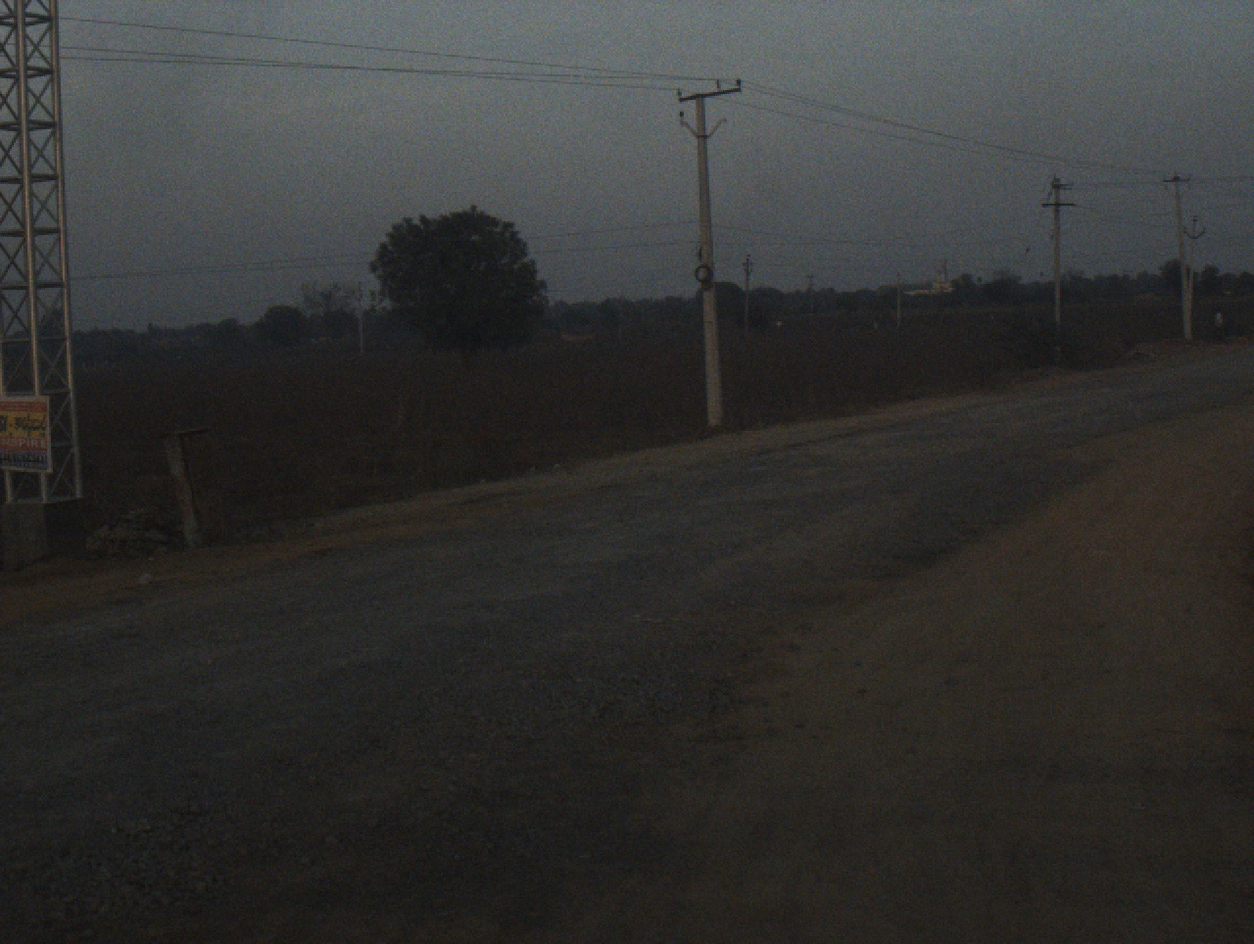person: (1211, 299, 1227, 334)
